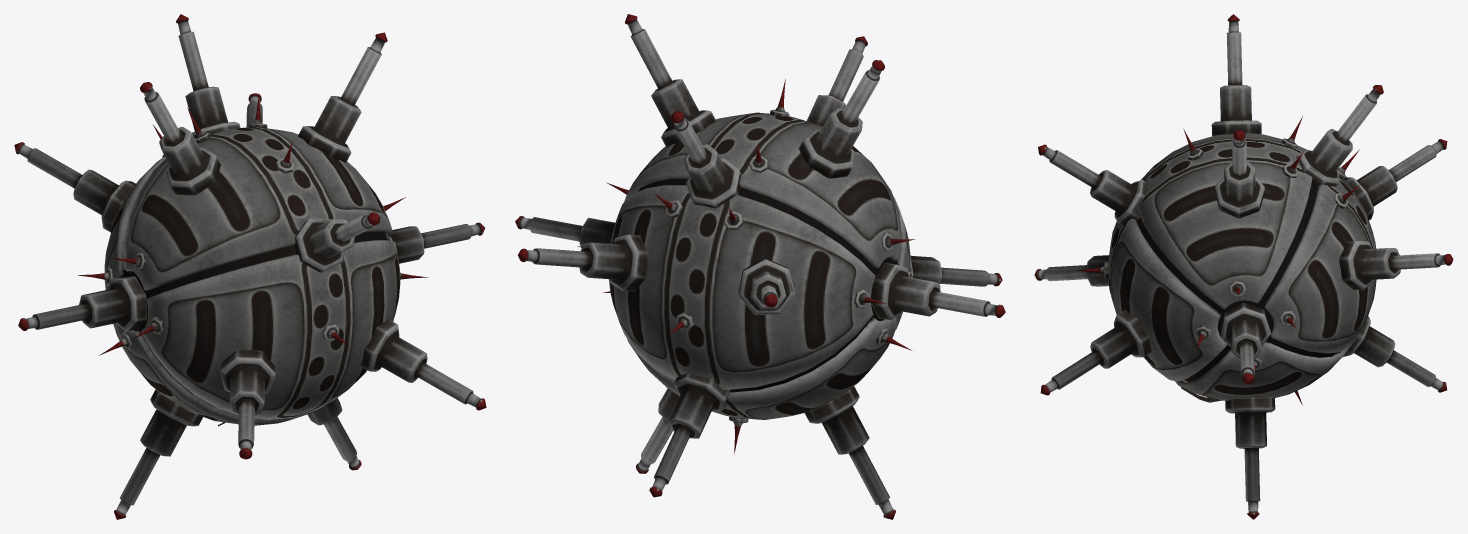
3 renders of one model, left to right at view 1: azimuth 30°, elevation 25°; view 2: azimuth 150°, elevation 25°; view 3: azimuth 270°, elevation 25°, orthographic. The views are drawn at different scales.
Visible parts, largest first — view 1: defaultMaterial; view 2: defaultMaterial; view 3: defaultMaterial.
Part boxes in pixels (x1,y1,x2,y2): defaultMaterial: [14, 14, 486, 519]; defaultMaterial: [515, 14, 1005, 519]; defaultMaterial: [1034, 14, 1453, 519].
Bounding box in the file's own units: 471 × 428 × 400.
Materials: 1 (1 with a texture image).
